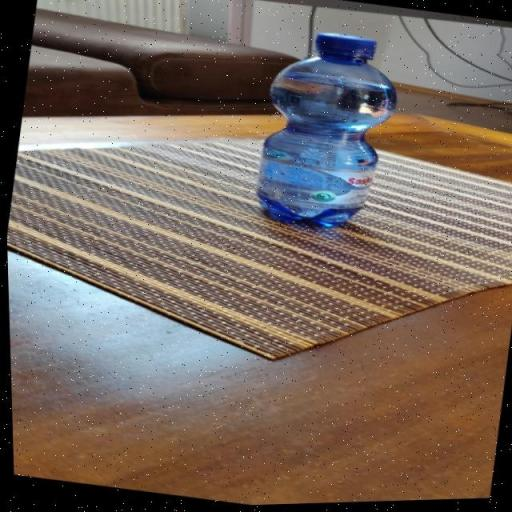plastic: (242, 22, 408, 241)
